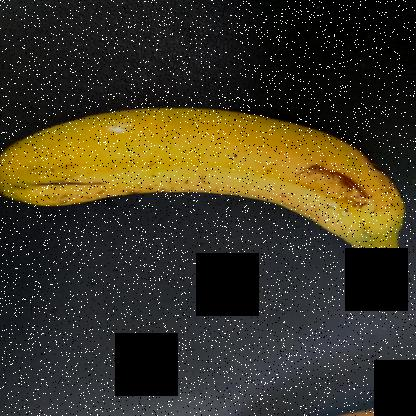ripe: (1, 100, 407, 262)
